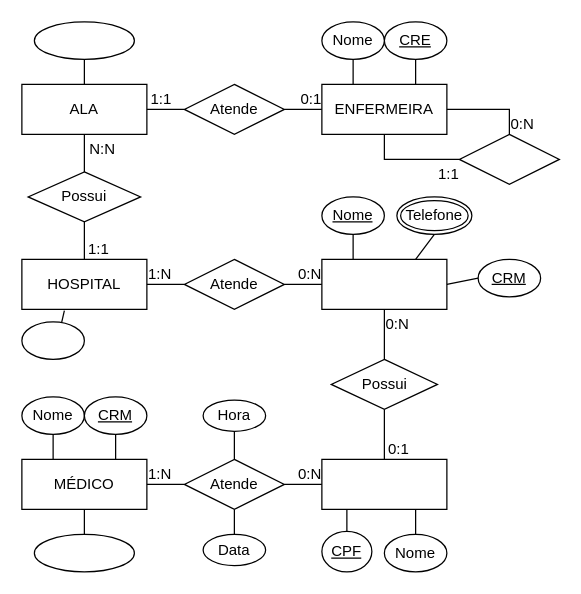
The diagram is 581 pixels wide and 594 high, and some of its shapes have lost their labels. The shapes that lost their labels are listed below. From the top down, each one's centre as x and y in pixels, then its label:
At (83,40): "Identificador".
At (508,158): "EnfChefe".
At (384,283): "PLANO DE SAÚDE".
At (52,340): "CNPJ".
At (384,483): "PACIENTE".
At (83,552): "Especialidade".
